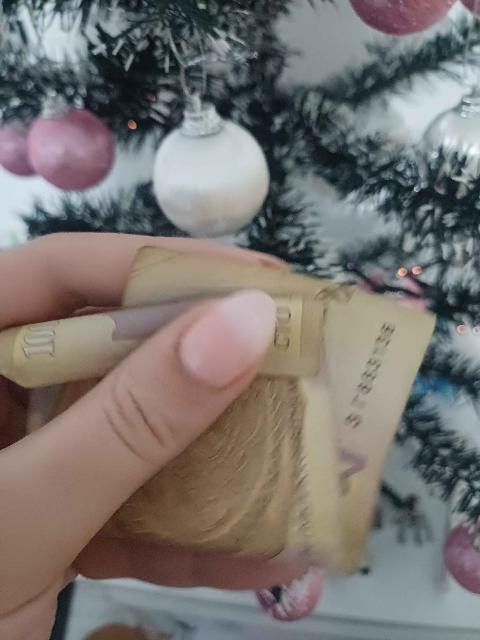100_note: (0, 232, 435, 564)
